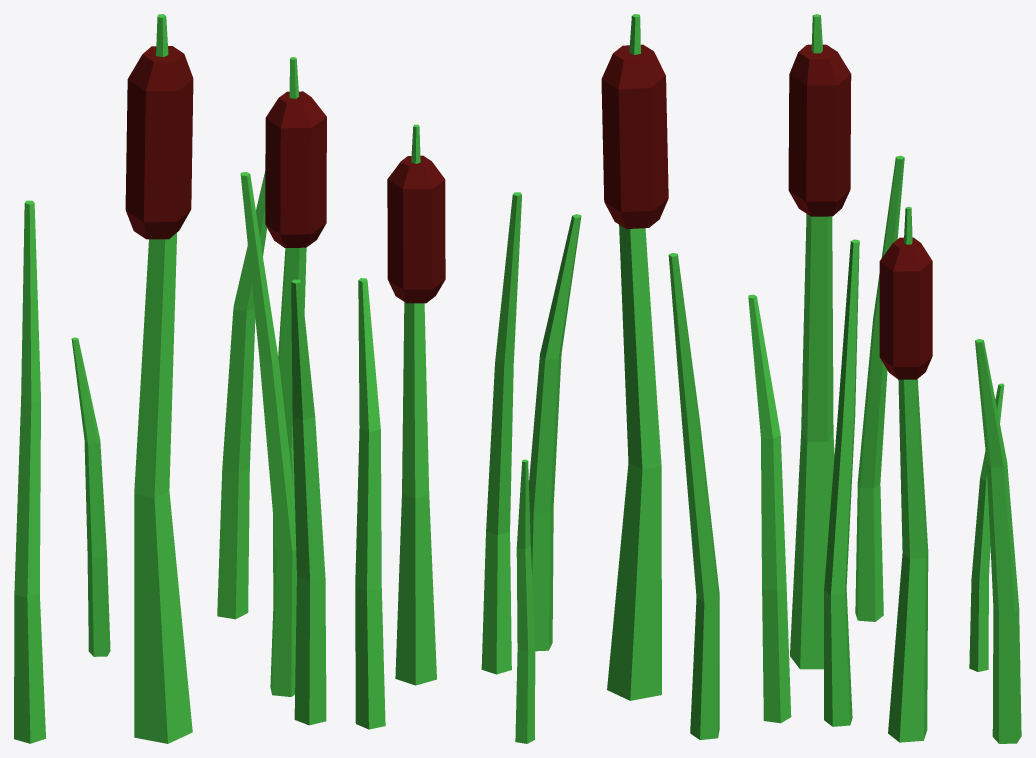
The model's file is reeds.glb.
The picture shows the model from 3 angles, left to right: view 1: azimuth 30°, elevation 25°; view 2: azimuth 150°, elevation 25°; view 3: azimuth 270°, elevation 25°; orthographic projection. The views are drawn at different scales.
Visible parts, largest first — view 1: Reeds; view 2: Reeds; view 3: Reeds.
Boxes of the visible parts, left/top/right/bottom form: Reeds: left=14, top=14, right=326, bottom=743; Reeds: left=355, top=14, right=719, bottom=743; Reeds: left=748, top=14, right=1021, bottom=743.
Bounding box in the file's own units: 0.7987 × 1.68 × 0.645.
